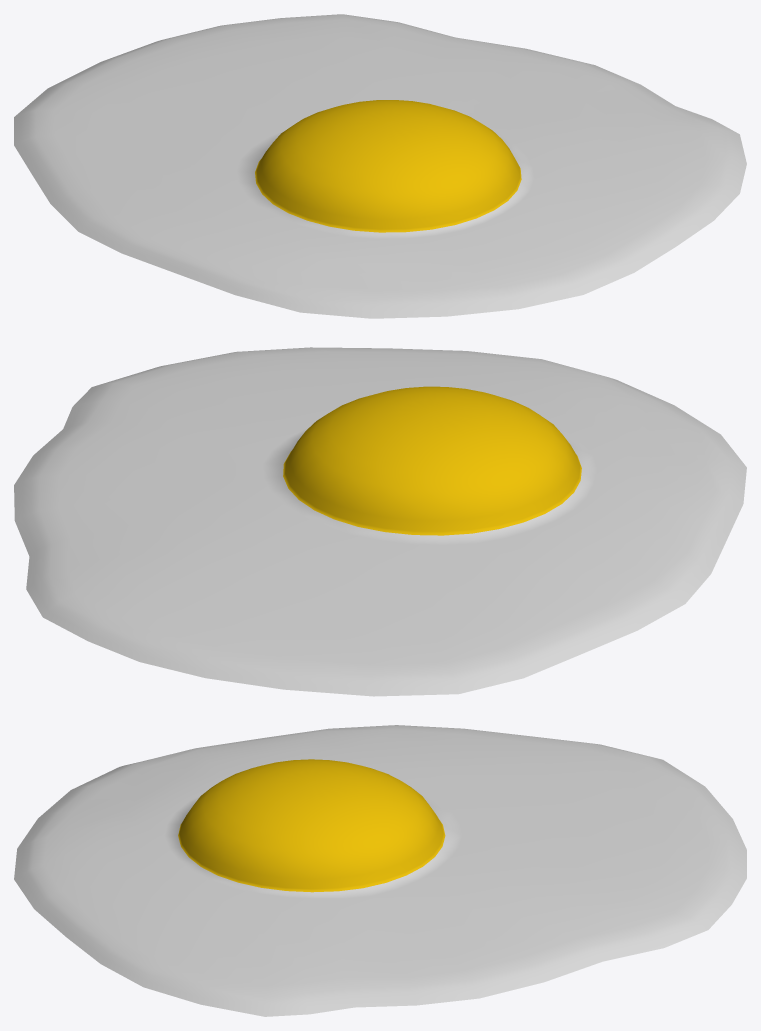
The model's file is EggOverE5.fbx.
3 views of the same model, one above another, from view 1: azimuth 30°, elevation 25°; view 2: azimuth 150°, elevation 25°; view 3: azimuth 270°, elevation 25° (orthographic). The views are drawn at different scales.
Parts seen in each view (by area): view 1: Sphere.020; view 2: Sphere.020; view 3: Sphere.020.
Part boxes in pixels (x1=…): Sphere.020: x1=14, y1=14, x2=746, y2=318; Sphere.020: x1=14, y1=347, x2=746, y2=696; Sphere.020: x1=14, y1=725, x2=746, y2=1016.
Bounding box in the file's own units: 510 × 61.24 × 543.
